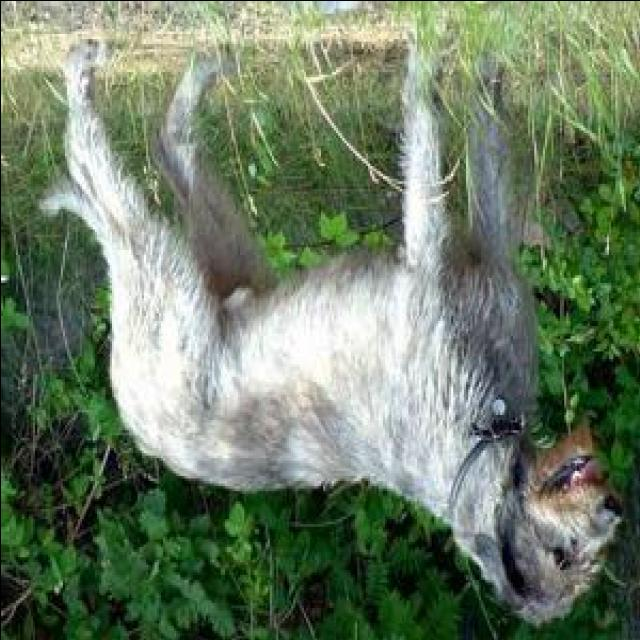irish_wolfhound: (37, 33, 622, 622)
